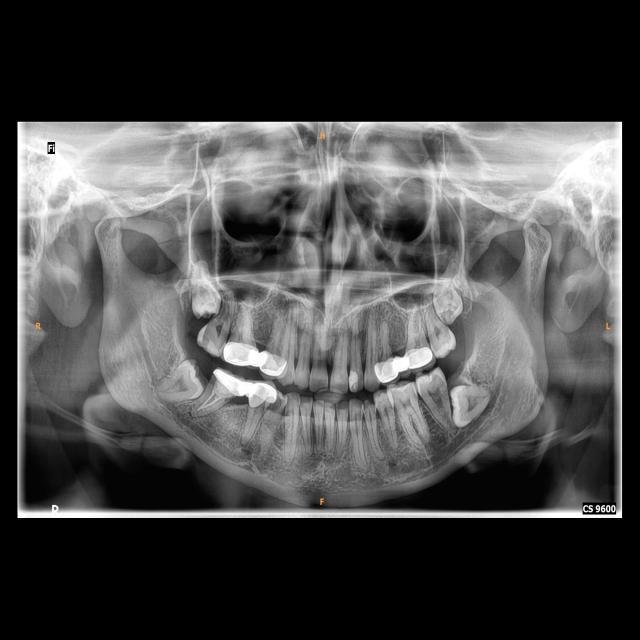dolgu: (348, 369, 361, 391)
kanal-tedavisi: (196, 385, 221, 415)
kaplama: (214, 370, 247, 399), (225, 340, 256, 367), (259, 352, 287, 378), (374, 354, 398, 384), (247, 382, 273, 408), (404, 347, 436, 367)
kopru: (386, 347, 414, 374)
